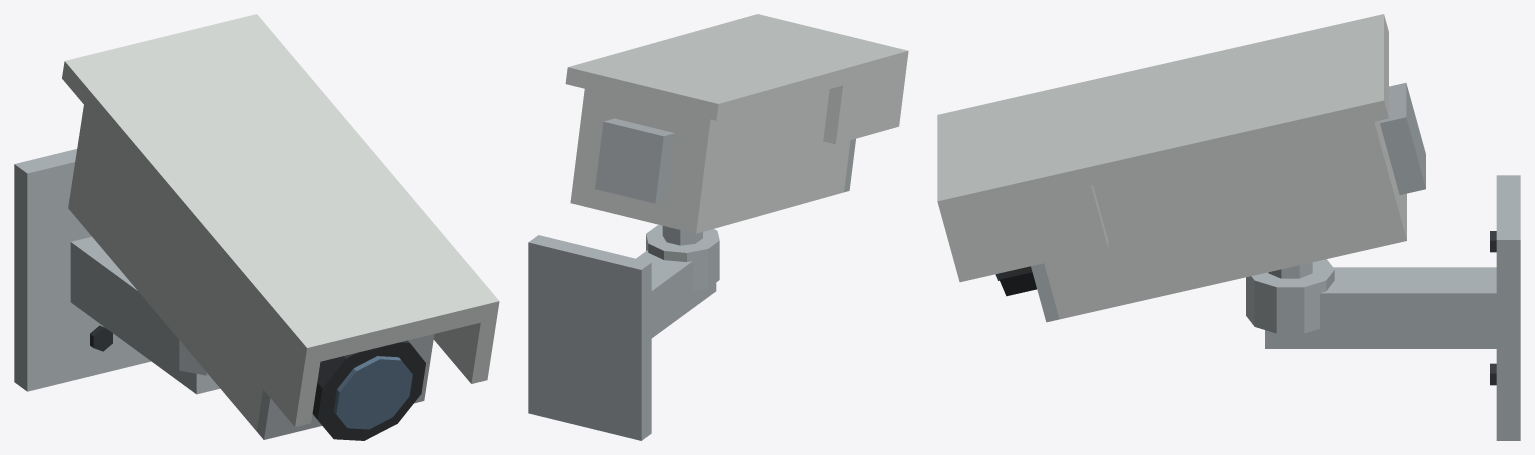
Rendered from security_camera.glb.
3 views of the same model, side by side, from view 1: azimuth 30°, elevation 25°; view 2: azimuth 150°, elevation 25°; view 3: azimuth 270°, elevation 25° (orthographic). The views are drawn at different scales.
Parts seen in each view (by area): view 1: head, mount; view 2: head, mount; view 3: head, mount.
Part boxes in pixels (bbox=[...]): head: bbox=[62, 14, 499, 440]; mount: bbox=[14, 149, 219, 394]; head: bbox=[565, 14, 908, 245]; mount: bbox=[528, 225, 719, 440]; head: bbox=[937, 14, 1425, 322]; mount: bbox=[1246, 175, 1520, 440].
Size of the model in its own units: 0.12 by 0.2273 by 0.3421.
